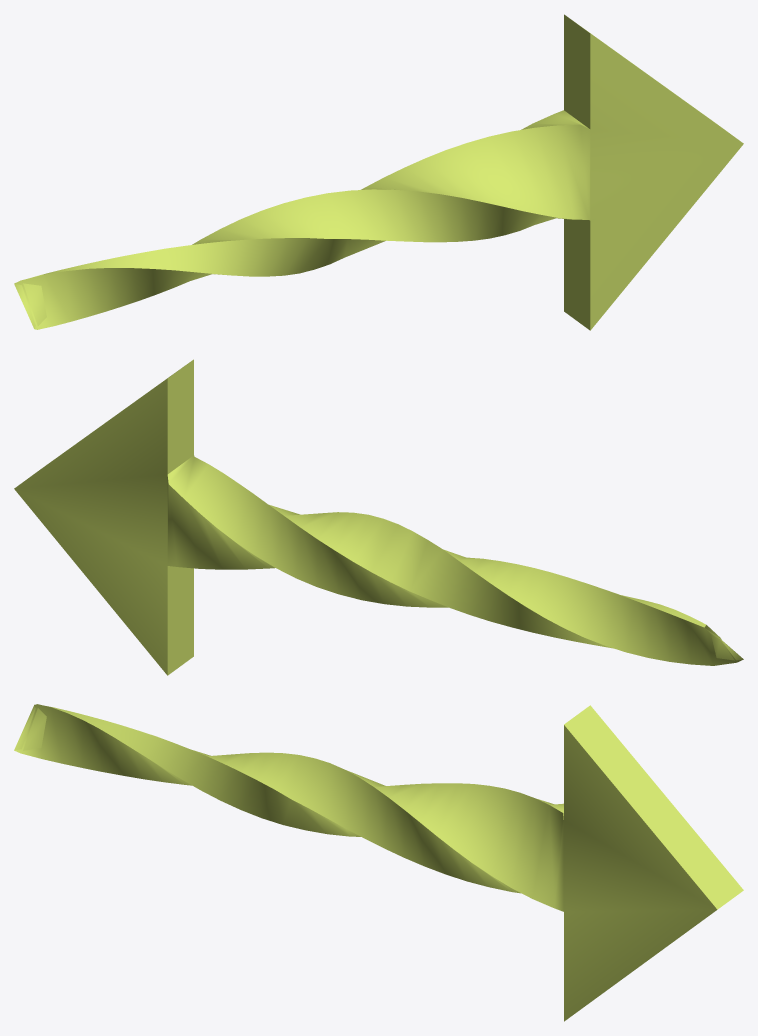
The picture shows the model from 3 angles, top to bottom: view 1: azimuth 30°, elevation 25°; view 2: azimuth 150°, elevation 25°; view 3: azimuth 330°, elevation 25°; orthographic projection.
Parts seen in each view (by area): view 1: 拧箭头; view 2: 拧箭头; view 3: 拧箭头.
Part boxes in pixels (left/top/right/bottom): 拧箭头: left=14, top=14, right=743, bottom=330; 拧箭头: left=14, top=359, right=743, bottom=675; 拧箭头: left=14, top=704, right=743, bottom=1021.
Bounding box in the file's own units: 154 × 61.89 × 18.89.
